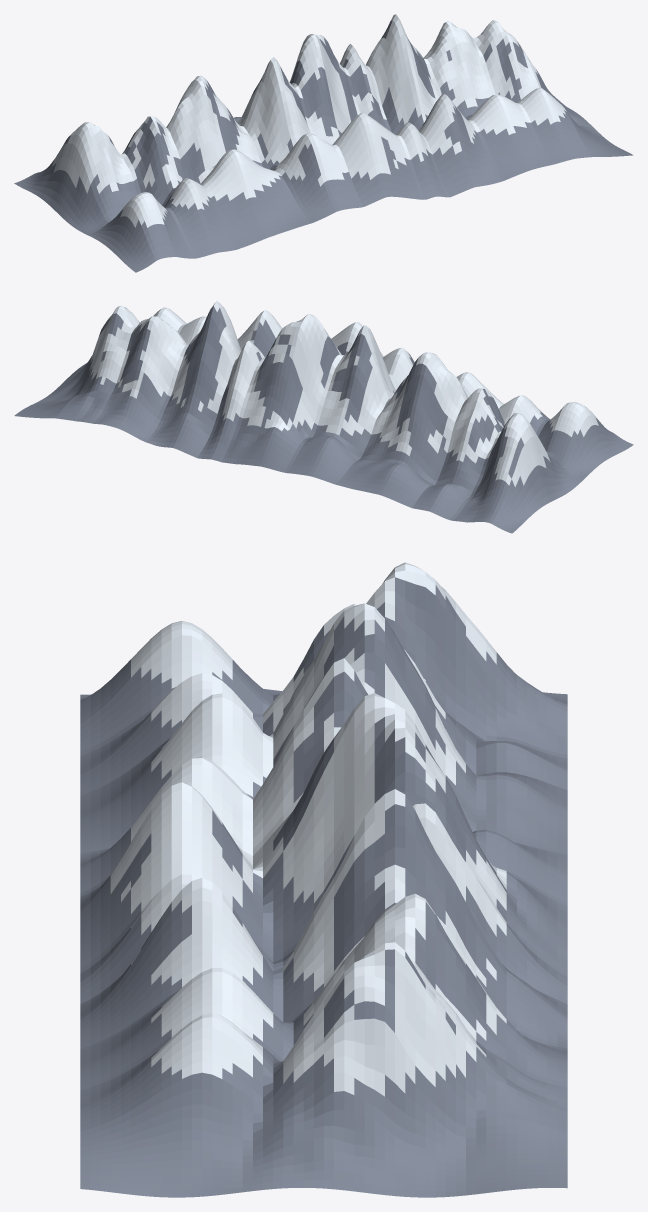
Rendered from Ridge0.fbx.
3 renders of one model, top to bottom at view 1: azimuth 30°, elevation 25°; view 2: azimuth 150°, elevation 25°; view 3: azimuth 270°, elevation 25°, orthographic. The views are drawn at different scales.
Visible parts, largest first — view 1: LayeredAlpineRidge; view 2: LayeredAlpineRidge; view 3: LayeredAlpineRidge.
Part boxes in pixels (<box>): LayeredAlpineRidge: <box>14,14,633,272</box>; LayeredAlpineRidge: <box>14,301,633,533</box>; LayeredAlpineRidge: <box>80,562,567,1197</box>.
Bounding box in the file's own units: 1700 × 427 × 720.
